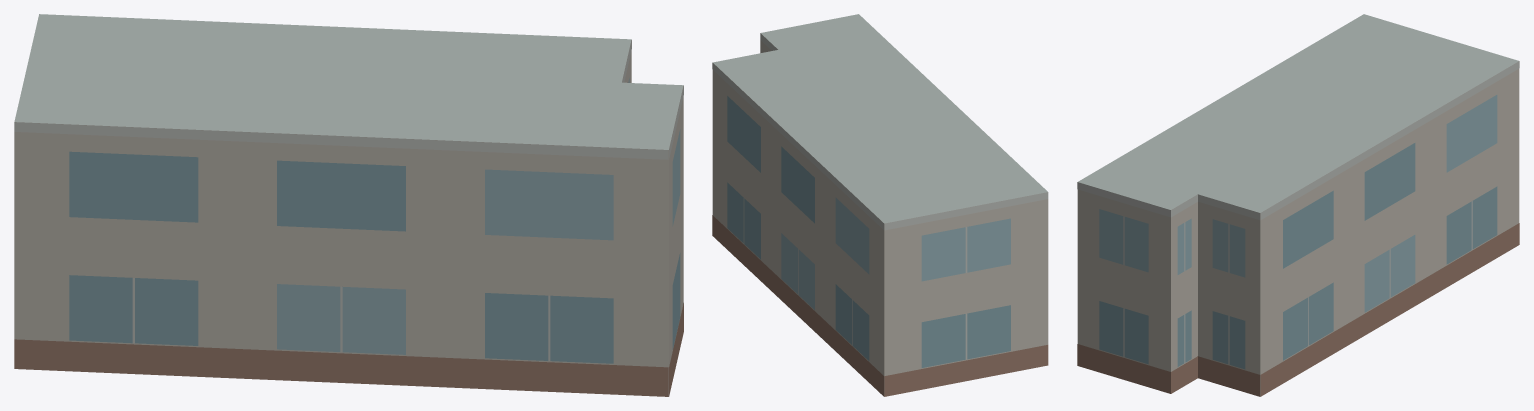
Rendered from survey-upis-32807970.glb.
3 renders of one model, left to right at view 1: azimuth 30°, elevation 25°; view 2: azimuth 150°, elevation 25°; view 3: azimuth 270°, elevation 25°, orthographic. The views are drawn at different scales.
Parts seen in each view (by area): view 1: survey-upis-32807970.tmp; view 2: survey-upis-32807970.tmp; view 3: survey-upis-32807970.tmp.
Part boxes in pixels (box(x1,y1,x2,y2)): survey-upis-32807970.tmp: box(14, 14, 683, 396); survey-upis-32807970.tmp: box(712, 14, 1048, 396); survey-upis-32807970.tmp: box(1077, 14, 1519, 396).
Bounding box in the file's own units: 14.17 × 6.1 × 13.3.
